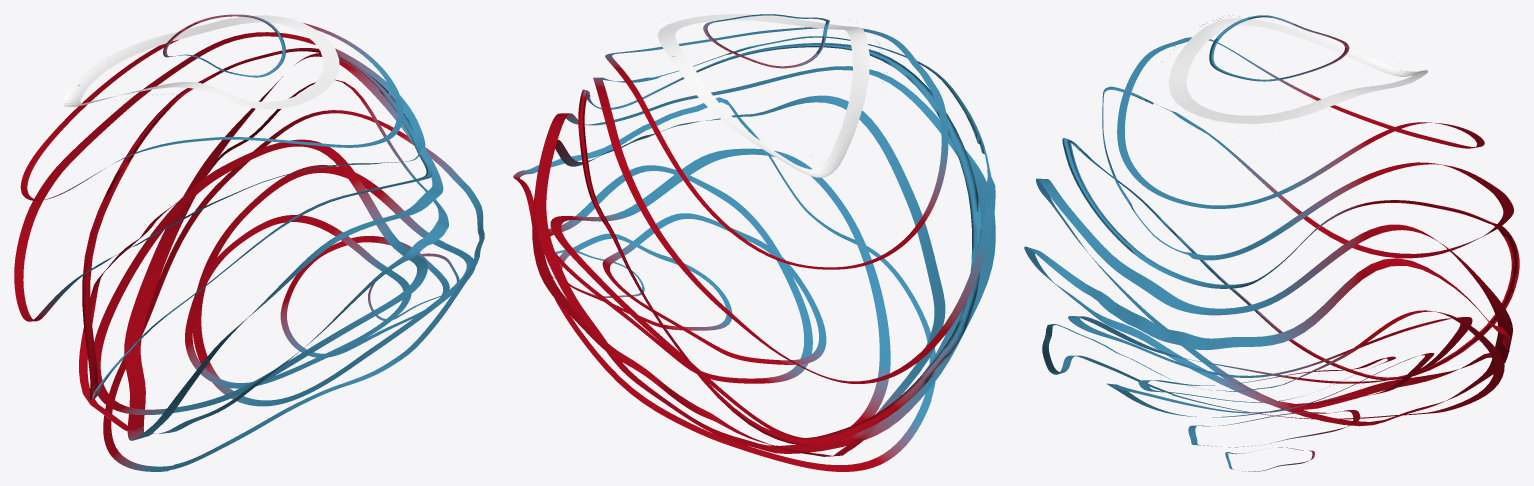
3 views of the same model, side by side, from view 1: azimuth 30°, elevation 25°; view 2: azimuth 150°, elevation 25°; view 3: azimuth 270°, elevation 25° (orthographic). The views are drawn at different scales.
Visible parts, largest first — view 1: 7.006, 7.1627, 7.1589, Circle, 7.784, 7.005, 7.1818, 7.001, 7.1955, 7.004, 7.2029, 7.002; view 2: 7.006, 7.005, 7.001, 7.1627, Circle, 7.1589, 7.784, 7.004, 7.1818, 7.1955, 7.2029, 7.002; view 3: 7.001, 7.006, Circle, 7.005, 7.784, 7.004, 7.1589, 7.1627, 7.1818, 7.002, 7.1955, 7.2029.
Part boxes in pixels (<box>): 7.006: <box>124,53,443,440</box>; 7.1627: <box>90,139,427,414</box>; 7.1589: <box>103,110,484,471</box>; Circle: <box>62,15,339,109</box>; 7.784: <box>14,32,425,321</box>; 7.005: <box>82,48,432,399</box>; 7.1818: <box>193,165,475,406</box>; 7.001: <box>79,79,448,434</box>; 7.1955: <box>185,215,411,388</box>; 7.004: <box>20,19,403,200</box>; 7.2029: <box>280,236,449,357</box>; 7.002: <box>163,14,285,77</box>; 7.006: <box>534,66,995,453</box>; 7.005: <box>578,43,981,445</box>; 7.001: <box>532,95,945,456</box>; 7.1627: <box>550,148,890,444</box>; Circle: <box>657,14,869,177</box>; 7.1589: <box>513,97,935,471</box>; 7.784: <box>593,36,995,383</box>; 7.004: <box>605,27,948,269</box>; 7.1818: <box>548,165,812,383</box>; 7.1955: <box>602,213,826,364</box>; 7.2029: <box>559,233,732,330</box>; 7.002: <box>703,14,829,68</box>; 7.001: <box>1024,246,1510,410</box>; 7.006: <box>1036,178,1512,426</box>; Circle: <box>1168,18,1427,123</box>; 7.005: <box>1062,138,1519,380</box>; 7.784: <box>1102,86,1513,260</box>; 7.004: <box>1117,37,1484,208</box>; 7.1589: <box>1042,310,1504,419</box>; 7.1627: <box>1068,316,1472,383</box>; 7.1818: <box>1106,353,1434,417</box>; 7.002: <box>1209,15,1349,81</box>; 7.1955: <box>1138,356,1395,402</box>; 7.2029: <box>1188,410,1360,447</box>.
Bounding box in the file's own units: 1.9 × 1.69 × 1.73.
2 materials, 1 textured.
